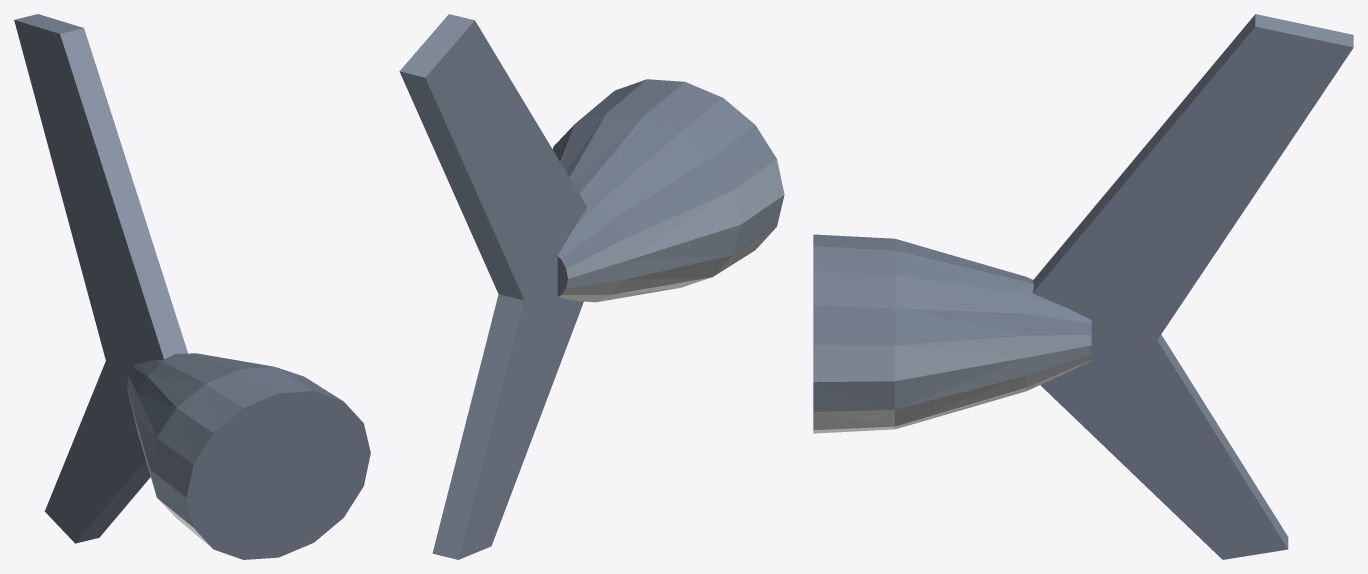
The model's file is SharkBossTail.fbx.
3 views of the same model, side by side, from view 1: azimuth 30°, elevation 25°; view 2: azimuth 150°, elevation 25°; view 3: azimuth 270°, elevation 25° (orthographic). The views are drawn at different scales.
Parts seen in each view (by area): view 1: SharkBossTail; view 2: SharkBossTail; view 3: SharkBossTail.
Boxes of the visible parts, <box> form: SharkBossTail: <box>14,14,370,559</box>; SharkBossTail: <box>399,14,784,559</box>; SharkBossTail: <box>813,14,1353,559</box>.
Bounding box in the file's own units: 30.6 × 79.05 × 72.6.
